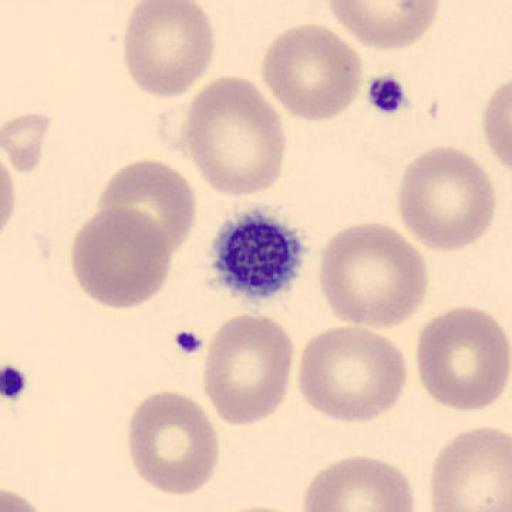Platelet: (206, 207, 310, 304)
RBC: (182, 74, 286, 198), (318, 220, 429, 330), (296, 324, 408, 424), (396, 145, 497, 253), (260, 20, 364, 124), (70, 206, 174, 310), (202, 312, 294, 426), (415, 305, 511, 413), (126, 388, 220, 498), (96, 158, 197, 255), (122, 0, 216, 99), (429, 424, 512, 512), (301, 454, 416, 512), (324, 0, 442, 51), (482, 80, 512, 212), (2, 111, 52, 175), (480, 76, 512, 171), (0, 475, 41, 512), (0, 156, 18, 232), (0, 485, 50, 512), (210, 503, 301, 512)
